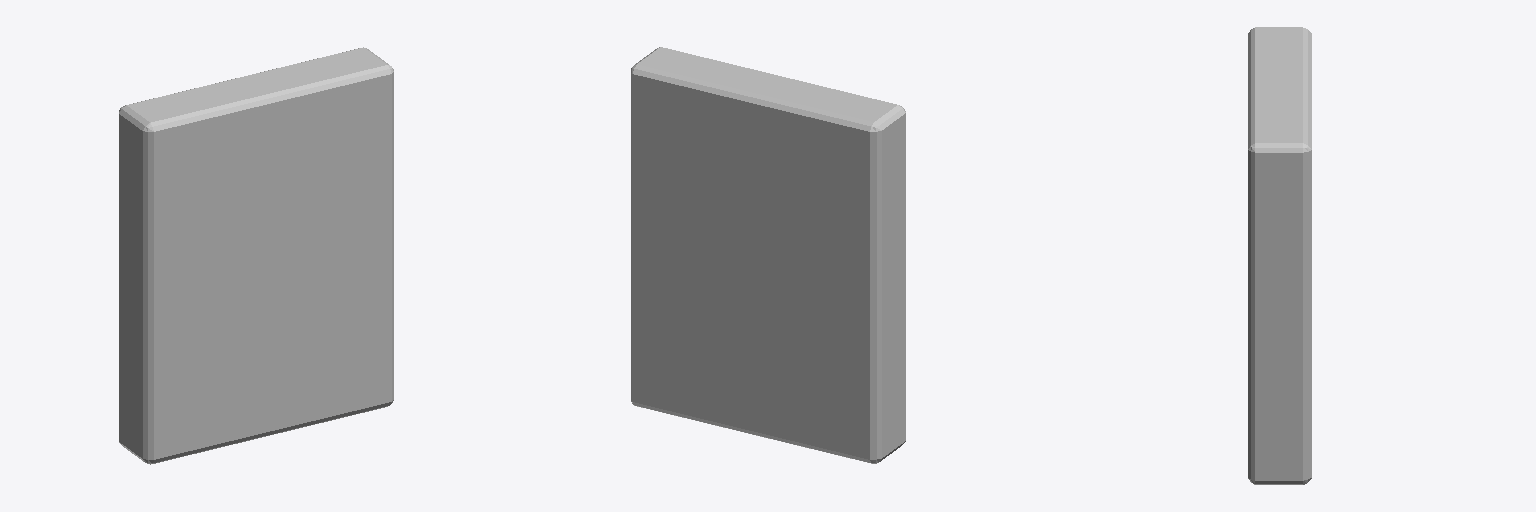
The model's file is Wooden Door.obj.
3 renders of one model, left to right at view 1: azimuth 30°, elevation 25°; view 2: azimuth 150°, elevation 25°; view 3: azimuth 270°, elevation 25°, orthographic.
Parts seen in each view (by area): view 1: Cube_Cube.001; view 2: Cube_Cube.001; view 3: Cube_Cube.001.
Boxes of the visible parts, x1,y1,x2,y2 form: Cube_Cube.001: [119, 47, 393, 464]; Cube_Cube.001: [631, 47, 905, 463]; Cube_Cube.001: [1248, 27, 1311, 484].
Size of the model in its own units: 1.8 by 2.34 by 0.4.